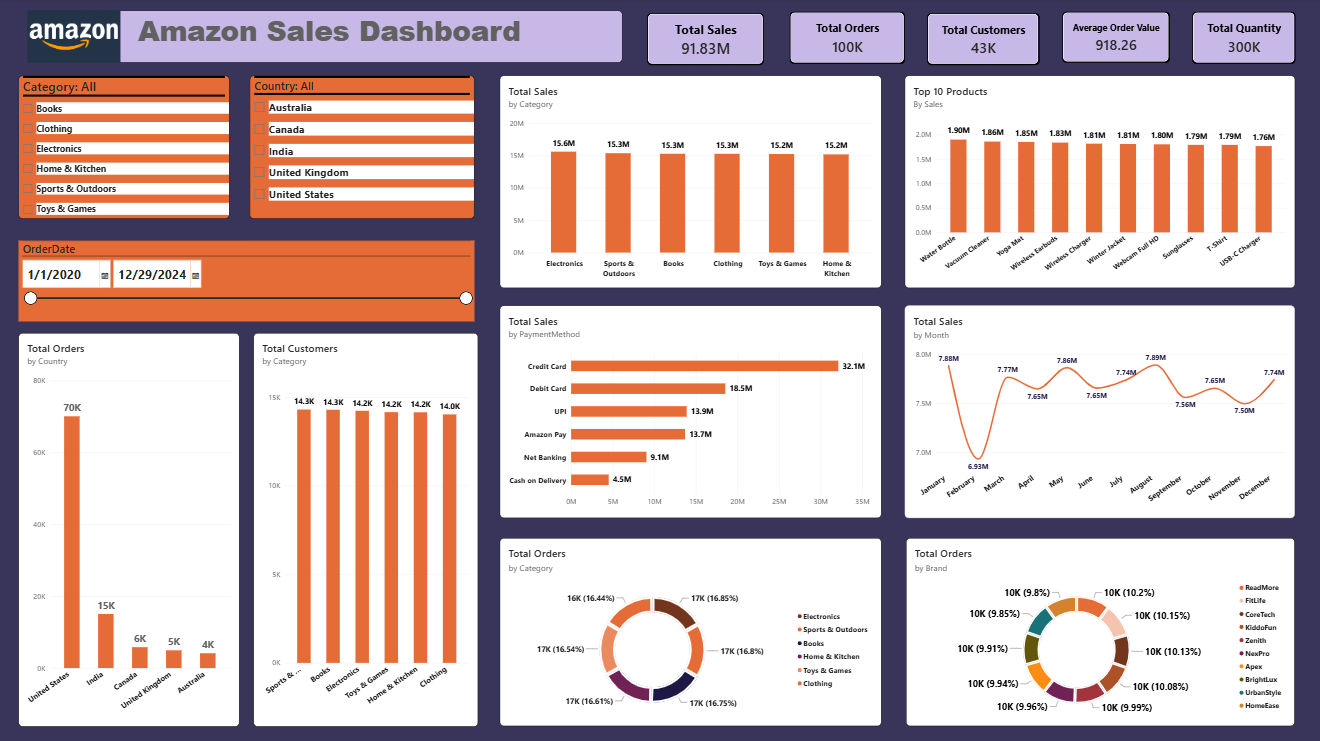

The page's visual inventory and layout, read from the dashboard file:
{"tool":"powerbi","page":{"name":"Page 1","canvas":[2560,1440],"ordinal":0},"visuals":[{"type":"textbox","box":[60.6,23.1,1148.4,101],"z":0},{"type":"cardVisual","fields":{"Data":["Amazon.Total Sales"]},"box":[1258.1,28.9,225.1,101],"z":1000},{"type":"cardVisual","fields":{"Data":["Amazon.Total Orders"]},"box":[1532.2,26,222.2,101],"z":2000},{"type":"cardVisual","fields":{"Data":["Amazon.Total Customers"]},"box":[1797.7,28.9,216.4,101],"z":3000},{"type":"cardVisual","fields":{"Data":["Amazon.Average Order Value"]},"box":[2057.4,26,207.8,98.1],"z":4000},{"type":"cardVisual","fields":{"Data":["Amazon.Total Quantity"]},"box":[2308.4,26,199.1,101],"z":5000},{"type":"lineStackedColumnComboChart","fields":{"Category":["Amazon.Category"],"Y":["Amazon.Total Sales"]},"box":[973.3,150,736.7,410],"z":6000},{"type":"barChart","fields":{"Category":["Amazon.PaymentMethod"],"Y":["Amazon.Total Sales"]},"box":[973.3,593.3,736.7,410],"z":8000},{"type":"donutChart","fields":{"Category":["Amazon.Brand"],"Y":["Amazon.Total Orders"]},"box":[1756.7,1043.3,750,363.3],"z":9000},{"type":"slicer","fields":{"Values":["Amazon.Category"]},"box":[43.3,150,406.9,277],"z":10000},{"type":"slicer","fields":{"Values":["Amazon.Country"]},"box":[490,150,433.3,276.7],"z":12000},{"type":"columnChart","fields":{"Category":["Amazon.Country"],"Y":["Amazon.Total Orders"]},"box":[43.3,646.7,426.7,760],"z":13000},{"type":"columnChart","fields":{"Category":["Amazon.Category"],"Y":["Amazon.Total Customers"]},"box":[496.7,646.7,433.3,760],"z":14000},{"type":"donutChart","fields":{"Category":["Amazon.Category"],"Y":["Amazon.Total Orders"]},"box":[973.3,1043.3,736.7,363.3],"z":15000},{"type":"lineStackedColumnComboChart","title":"Top 10 Products","fields":{"Category":["Amazon.ProductName"],"Y":["Amazon.Total Sales"]},"box":[1753.3,150,753.3,410],"z":16000},{"type":"lineChart","fields":{"Category":["Amazon.OrderDate.Variation.Date Hierarchy.Year","Amazon.OrderDate.Variation.Date Hierarchy.Quarter","Amazon.OrderDate.Variation.Date Hierarchy.Month","Amazon.OrderDate.Variation.Date Hierarchy.Day"],"Y":["Amazon.Total Sales"]},"box":[1753,593,753,410],"z":16001},{"type":"slicer","fields":{"Values":["Amazon.OrderDate"]},"box":[43.3,467.5,880.1,155.8],"z":16002},{"type":"image","box":[43.3,23.1,213.5,101],"z":16003}]}

Visuals, with their boxes in screenshot pixels (x1, y1, x2, y2), scaled from the page's 2560x1440 canvas onto the 1320x741 screenshot:
textbox: {"x1": 31, "y1": 12, "x2": 623, "y2": 64}
cardVisual - Amazon.Total Sales: {"x1": 649, "y1": 15, "x2": 765, "y2": 67}
cardVisual - Amazon.Total Orders: {"x1": 790, "y1": 13, "x2": 905, "y2": 65}
cardVisual - Amazon.Total Customers: {"x1": 927, "y1": 15, "x2": 1039, "y2": 67}
cardVisual - Amazon.Average Order Value: {"x1": 1061, "y1": 13, "x2": 1168, "y2": 64}
cardVisual - Amazon.Total Quantity: {"x1": 1190, "y1": 13, "x2": 1293, "y2": 65}
lineStackedColumnComboChart - Amazon.Category x Amazon.Total Sales: {"x1": 502, "y1": 77, "x2": 882, "y2": 288}
barChart - Amazon.PaymentMethod x Amazon.Total Sales: {"x1": 502, "y1": 305, "x2": 882, "y2": 516}
donutChart - Amazon.Brand x Amazon.Total Orders: {"x1": 906, "y1": 537, "x2": 1293, "y2": 724}
slicer - Amazon.Category: {"x1": 22, "y1": 77, "x2": 232, "y2": 220}
slicer - Amazon.Country: {"x1": 253, "y1": 77, "x2": 476, "y2": 220}
columnChart - Amazon.Country x Amazon.Total Orders: {"x1": 22, "y1": 333, "x2": 242, "y2": 724}
columnChart - Amazon.Category x Amazon.Total Customers: {"x1": 256, "y1": 333, "x2": 480, "y2": 724}
donutChart - Amazon.Category x Amazon.Total Orders: {"x1": 502, "y1": 537, "x2": 882, "y2": 724}
"Top 10 Products" lineStackedColumnComboChart: {"x1": 904, "y1": 77, "x2": 1292, "y2": 288}
lineChart - Amazon.OrderDate.Variation.Date Hierarchy.Year x Amazon.OrderDate.Variation.Date Hierarchy.Quarter: {"x1": 904, "y1": 305, "x2": 1292, "y2": 516}
slicer - Amazon.OrderDate: {"x1": 22, "y1": 241, "x2": 476, "y2": 321}
image: {"x1": 22, "y1": 12, "x2": 132, "y2": 64}
